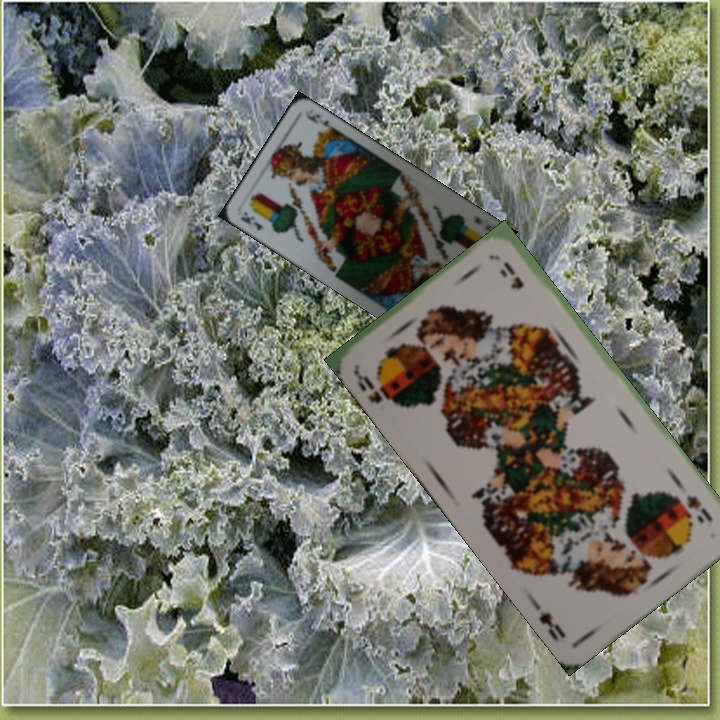EK: (237, 207, 267, 233), (470, 213, 500, 234)
SO: (350, 363, 401, 408), (682, 490, 715, 527)
